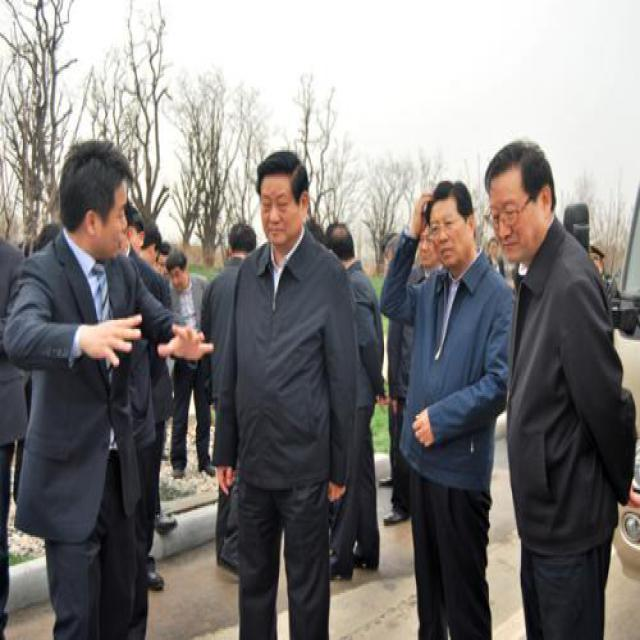head: (57, 135, 137, 265), (481, 130, 554, 271), (252, 146, 309, 254), (426, 173, 477, 276), (325, 218, 361, 285), (222, 218, 261, 270), (137, 220, 162, 276), (165, 250, 190, 294)
person: (9, 135, 214, 631), (479, 133, 633, 626), (216, 146, 359, 639), (373, 167, 507, 639), (157, 252, 220, 483)
